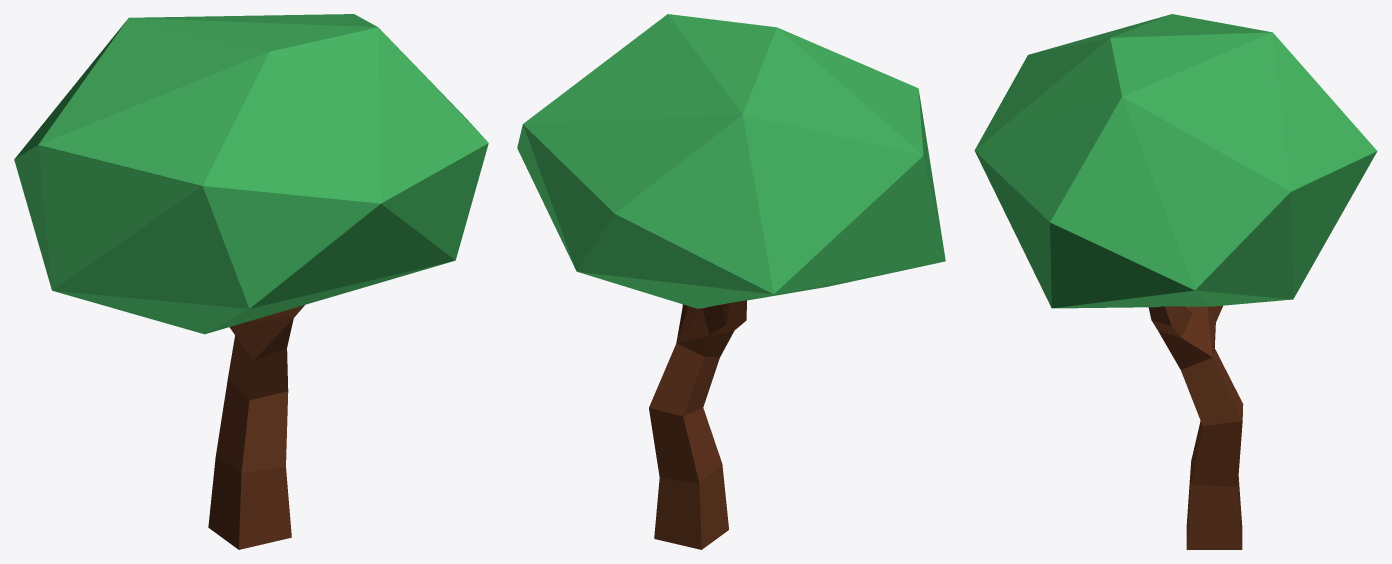
File: MIdTree.fbx
3 renders of one model, left to right at view 1: azimuth 30°, elevation 25°; view 2: azimuth 150°, elevation 25°; view 3: azimuth 270°, elevation 25°, orthographic. The views are drawn at different scales.
Parts seen in each view (by area): view 1: Tree_2; view 2: Tree_2; view 3: Tree_2.
Part boxes in pixels (x1,y1,x2,y2): Tree_2: (14,14,488,549); Tree_2: (517,14,945,549); Tree_2: (974,14,1377,549).
Size of the model in its own units: 341 by 389 by 294.
